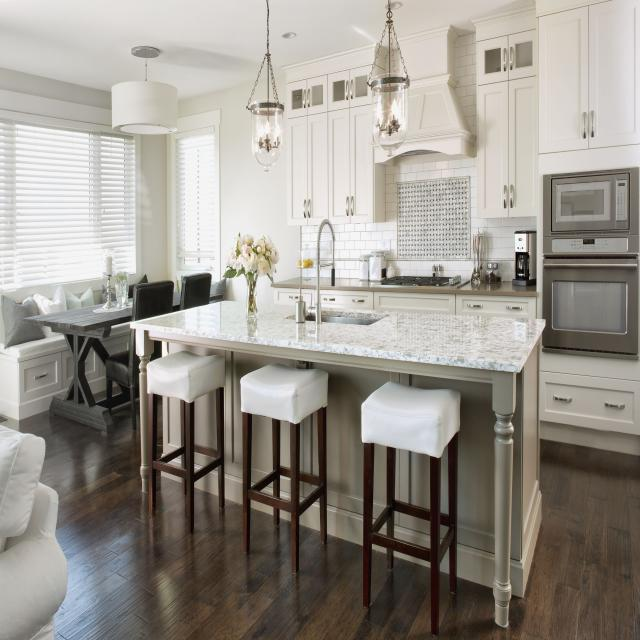Appliance_Microwave: (551, 173, 630, 233)
Appliance_Oven: (542, 258, 640, 356)
Appliance_Sink: (297, 220, 389, 326)
Appliance_Stove: (381, 274, 462, 287)
Cabinet_Glass: (287, 66, 372, 117), (479, 29, 534, 85)
Cabinet_Inset: (478, 0, 640, 218), (290, 106, 375, 221), (0, 351, 73, 421), (85, 348, 106, 402), (103, 336, 129, 355)
Cabinet_Shaker: (540, 372, 640, 436), (320, 291, 533, 315), (274, 289, 316, 308)
Countertop_Granite: (133, 301, 548, 373)
Countertop_Solid_Surface: (338, 279, 539, 296), (275, 276, 318, 287), (320, 277, 330, 289)
